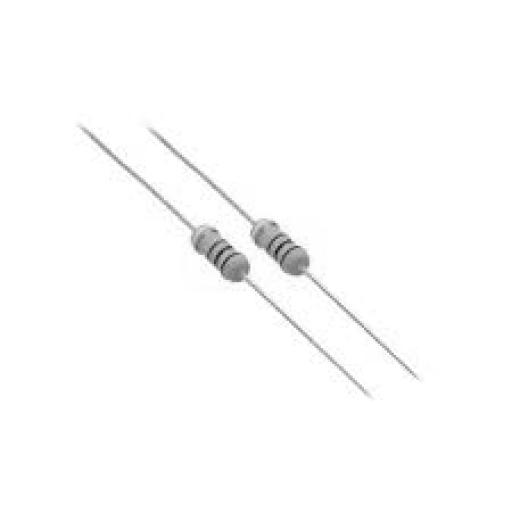RESISTOR: (212, 190, 370, 303), (148, 216, 269, 312)
